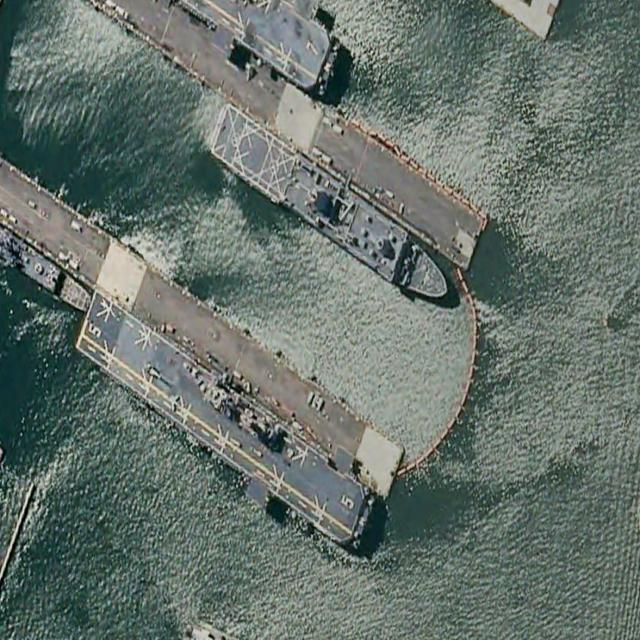Auxiliary Ships: (209, 101, 460, 316)
Landing: (66, 269, 386, 574)
